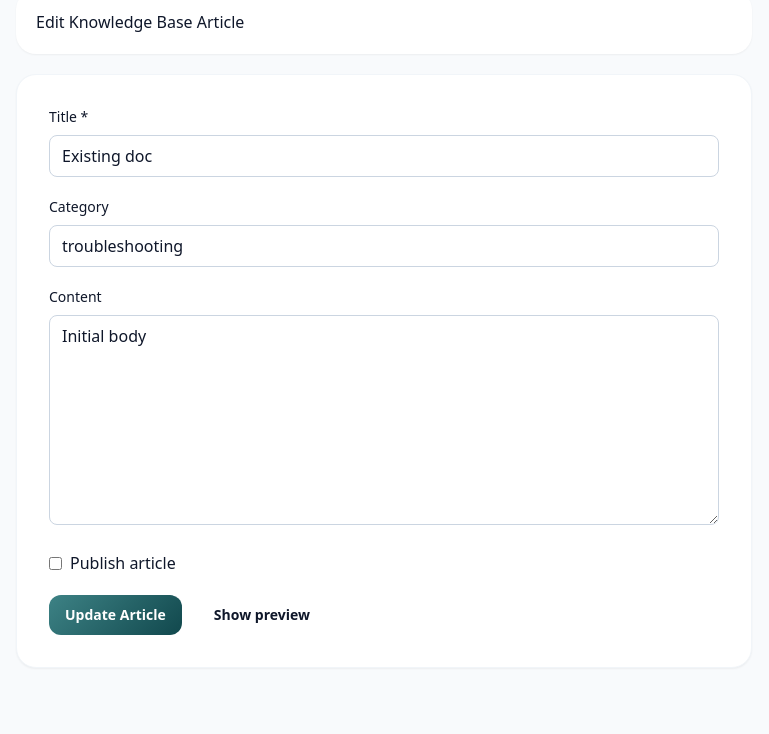
Test: ArticleEditor page › loads an existing article for editing and saves updates
Replace the text in the field labelled "Title *" with "Existing doc updated" at point(384, 156), box x1=49 y1=135 x2=719 y2=177
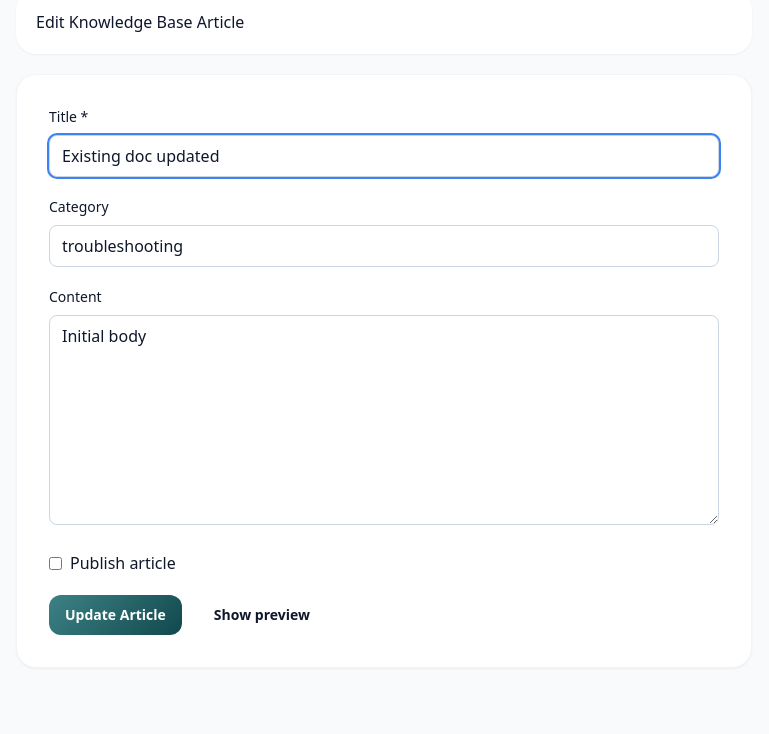
Replace the text in the text box labelled "Content" with "Updated body" at point(384, 420), box x1=49 y1=315 x2=719 y2=525
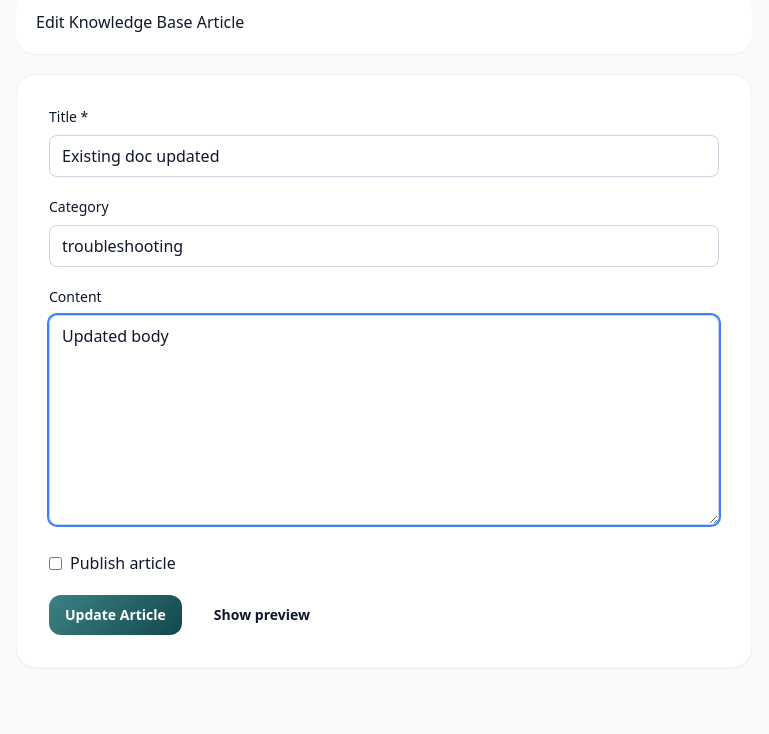
Click the button "Update Article".
click(115, 615)  # box x1=49 y1=595 x2=182 y2=635
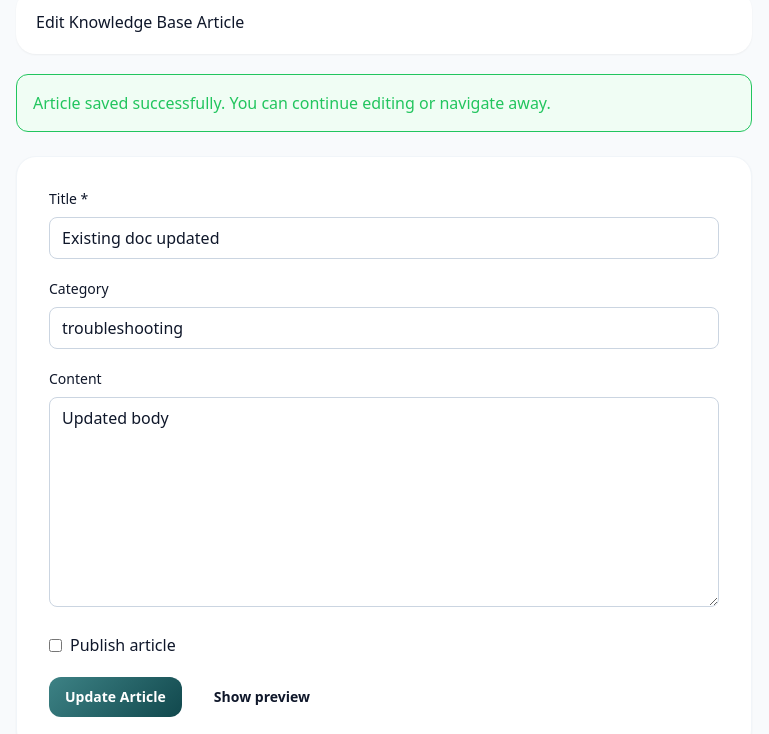
Expected: the text "Article saved successfully" is shown, x1=33 y1=92 x2=551 y2=114
